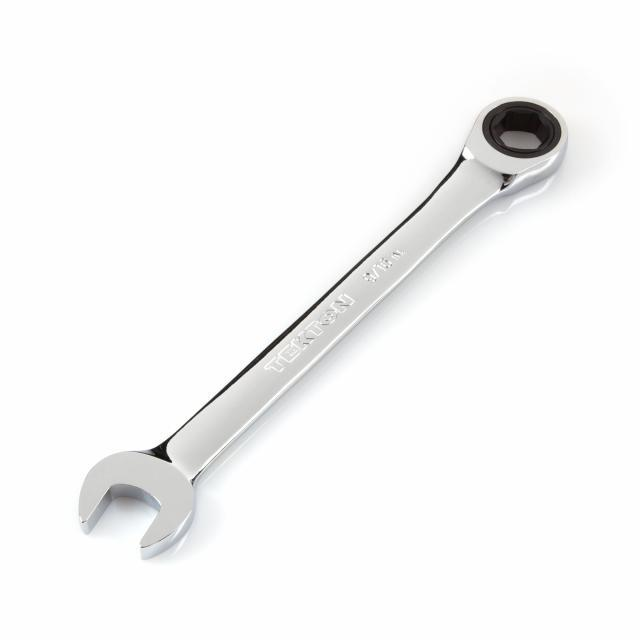wrench: (72, 93, 582, 562)
